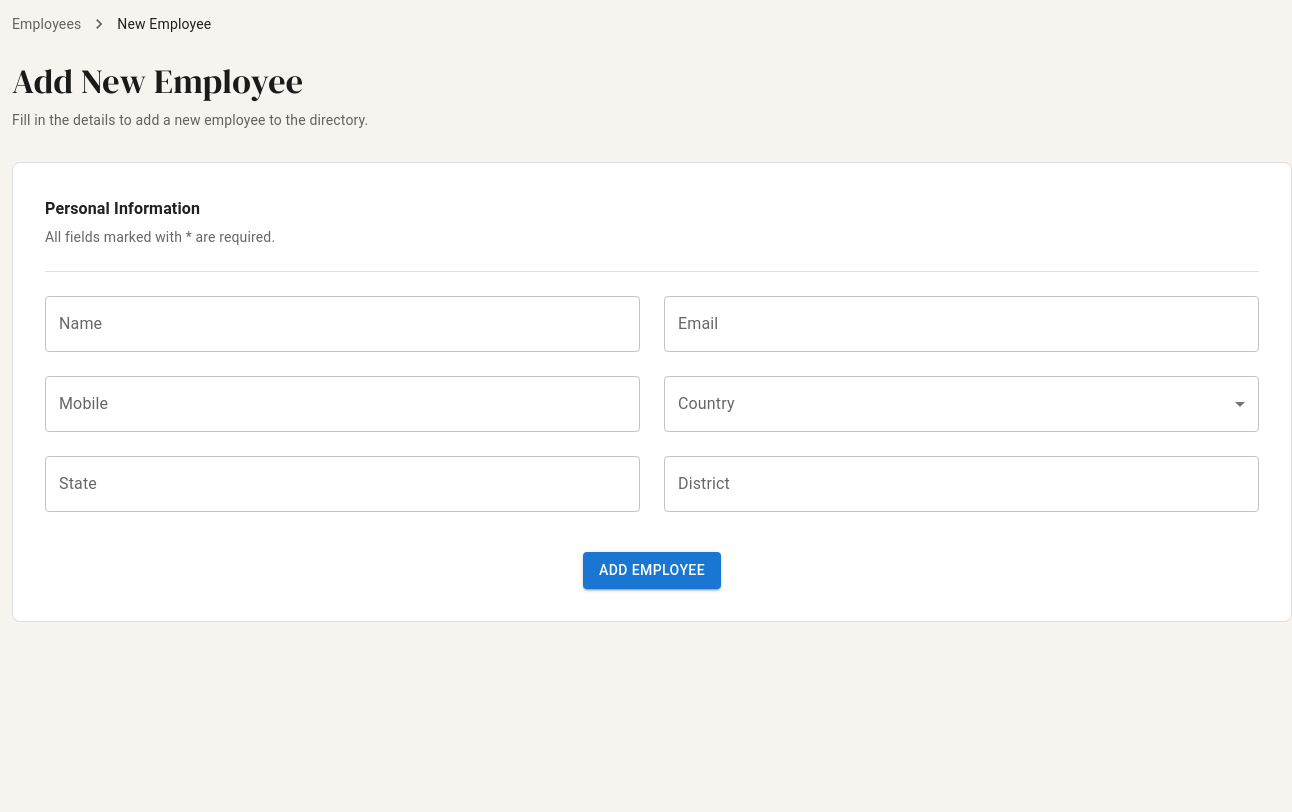
Scenario: EmployeeFormPage › shows validation error when submitting empty form
What coordinates should you click on to do the following:
click the button "Add Employee"
I would click on:
 (652, 570)
Its box is top-left (583, 552), bottom-right (721, 588).
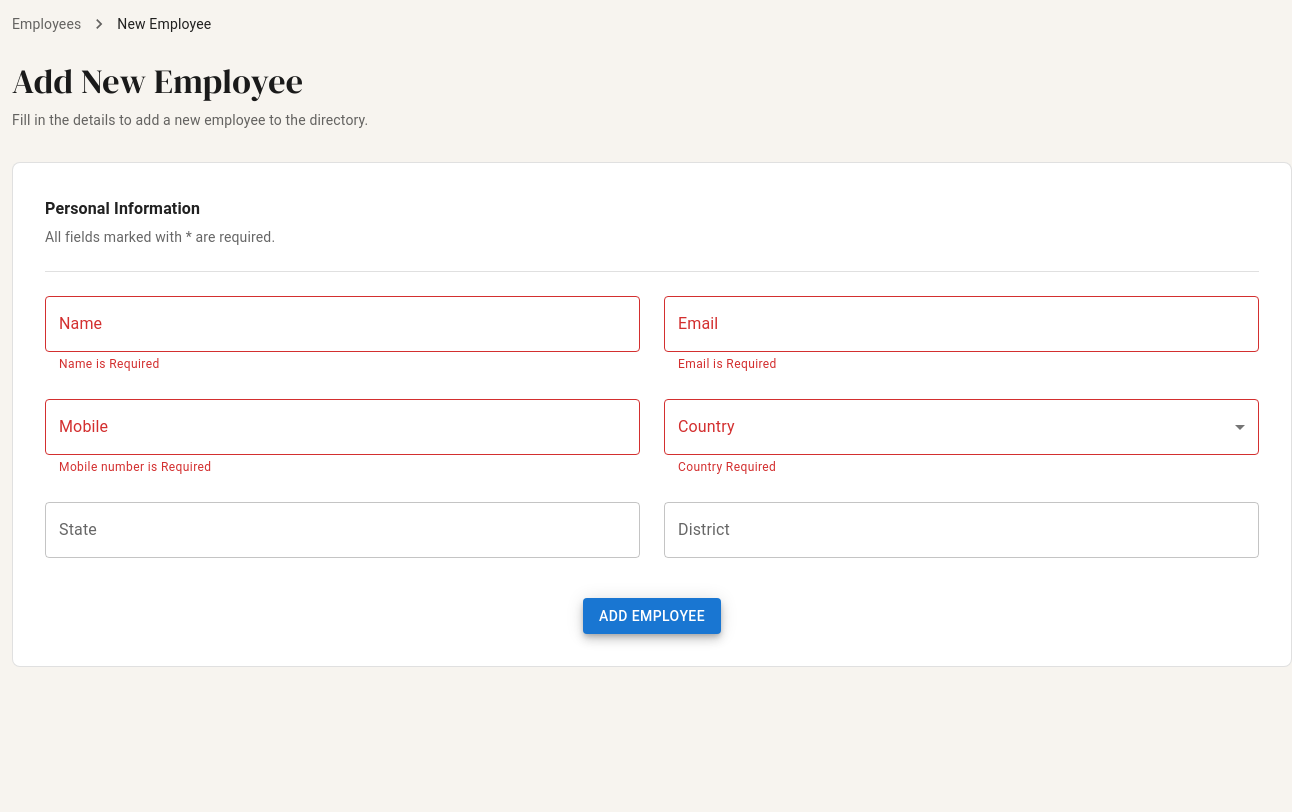
Now the text "Name is Required" is shown, box top-left (59, 357), bottom-right (160, 371)
